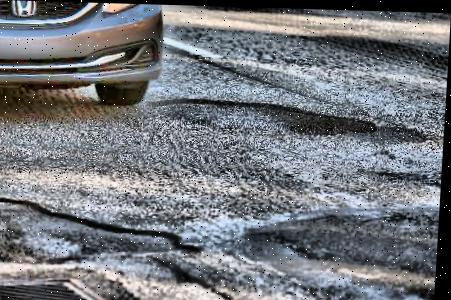pothole: (0, 193, 206, 268), (147, 93, 380, 138)
